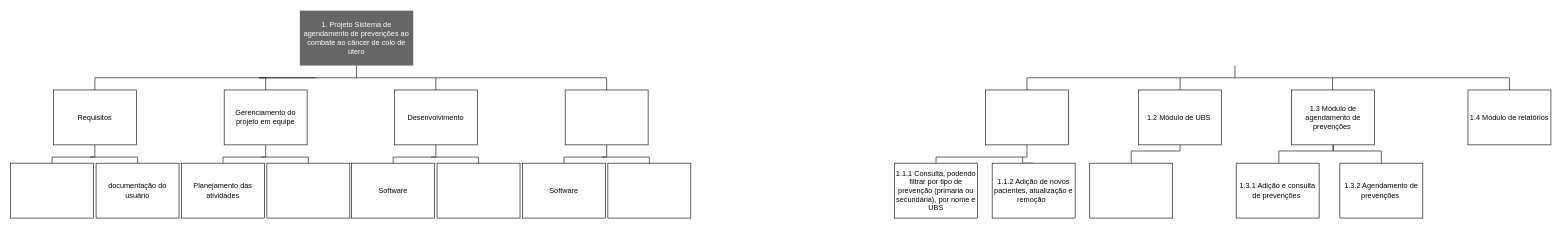
Some shapes in this 1562 by 229 pixel diagram are drawn without their labels. The centre of each missing label's shape, as x and y in pixels:
1.1 Módulo de pacientes: point (1026, 117)
1.2.1 Adição e consulta de agentes de saúde: point (1131, 190)
Do software: point (52, 190)
Documentação: point (478, 190)
Reuniões do time: point (308, 190)
Testes e Validação dos resultados: point (606, 117)
Validar as recomendações de prevenções: point (649, 190)
